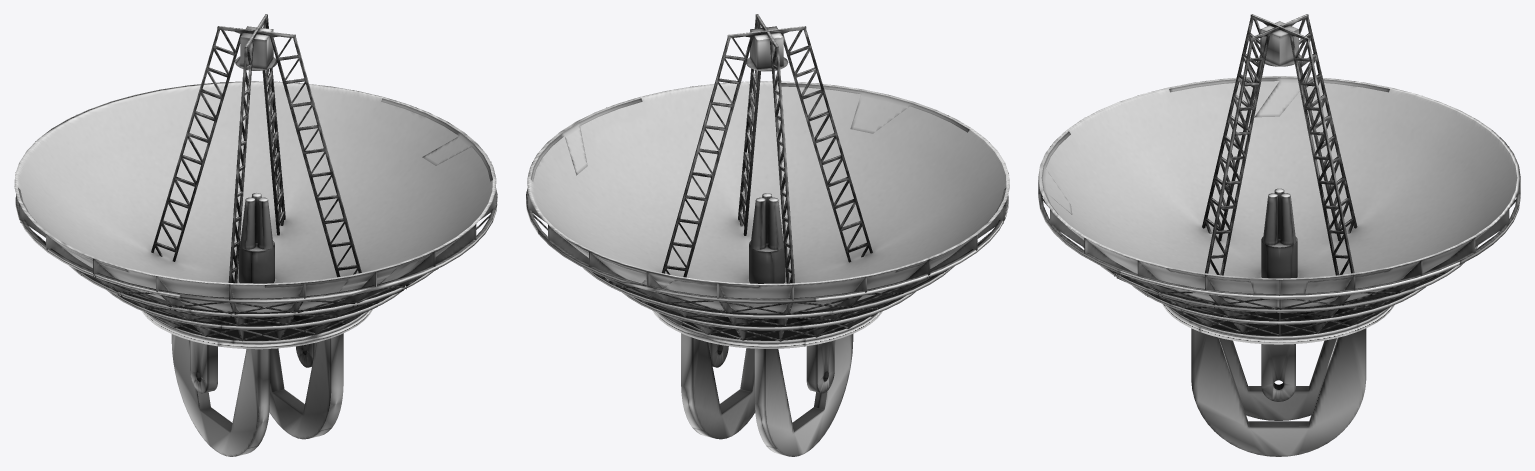
File: NASADSN70mDish.glb
3 renders of one model, left to right at view 1: azimuth 30°, elevation 25°; view 2: azimuth 150°, elevation 25°; view 3: azimuth 270°, elevation 25°, orthographic.
Parts seen in each view (by area): view 1: 70m_rev_e.; view 2: 70m_rev_e.; view 3: 70m_rev_e..
Boxes of the visible parts, x1,y1,x2,y2 form: 70m_rev_e.: (14, 14, 497, 456); 70m_rev_e.: (526, 14, 1009, 456); 70m_rev_e.: (1038, 14, 1520, 456).
Bounding box in the file's own units: 91.57 × 85.54 × 91.31.
1 material, 1 textured.
